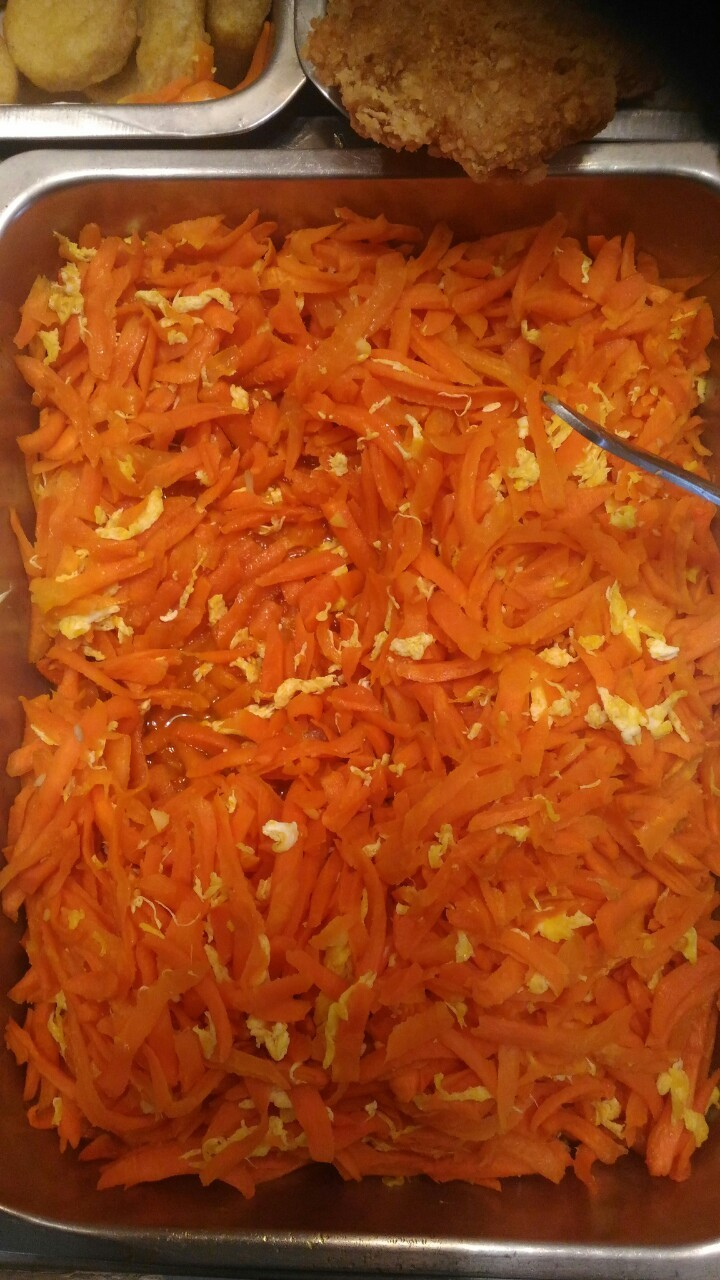carrot_eggs: (17, 227, 717, 1227)
chicken_nuggets: (1, 1, 264, 102)
fried_chicken: (325, 8, 631, 179)
